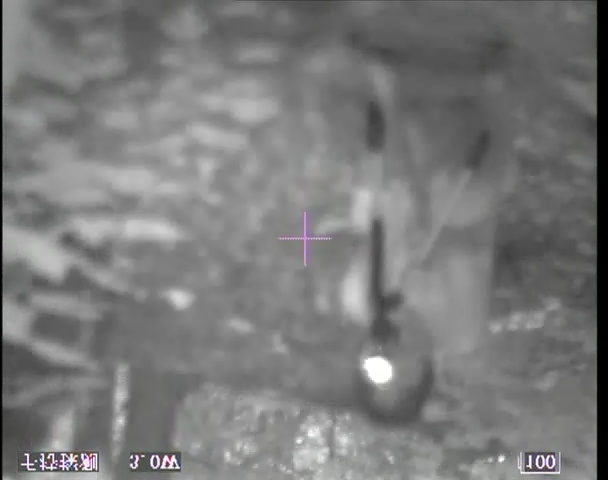my: (362, 353, 394, 384)
